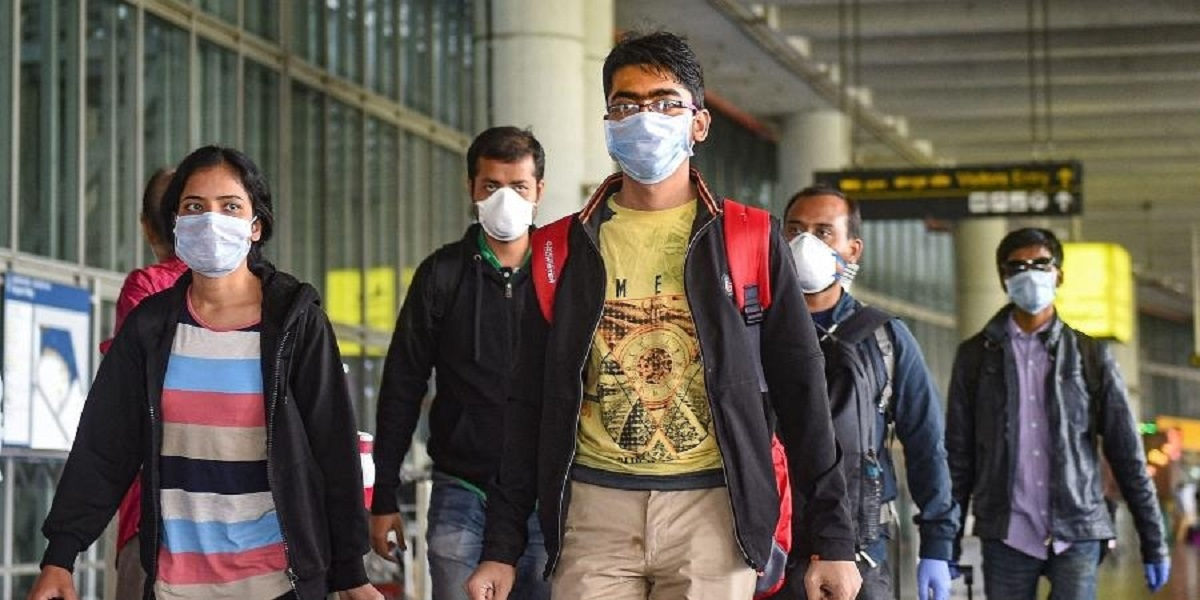with_mask: (605, 73, 698, 184), (174, 181, 257, 268), (471, 160, 543, 242), (784, 211, 850, 291), (1005, 249, 1062, 313)
